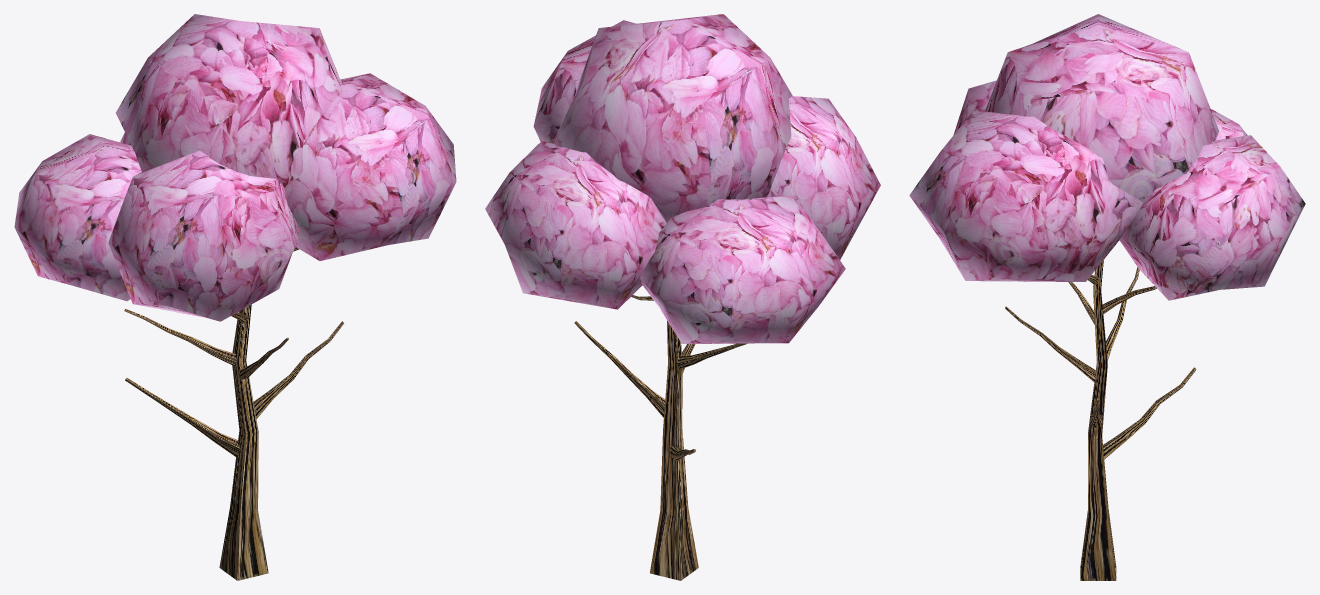
File: cherryblossomtree.fbx
3 views of the same model, side by side, from view 1: azimuth 30°, elevation 25°; view 2: azimuth 150°, elevation 25°; view 3: azimuth 270°, elevation 25° (orthographic).
Visible parts, largest first — view 1: pCube12, pCube15, pCube17, pCube16, pCube18; view 2: pCube12, pCube16, pCube14, pCube15, pCube18, pCube17; view 3: pCube17, pCube12, pCube14, pCube18, pCube15, pCube16.
Part boxes in pixels (<box>): pCube12: <box>115,14,341,187</box>; pCube15: <box>108,150,300,321</box>; pCube17: <box>284,73,456,260</box>; pCube16: <box>14,134,141,301</box>; pCube18: <box>124,247,343,580</box>; pCube12: <box>553,14,792,223</box>; pCube16: <box>640,195,845,343</box>; pCube14: <box>485,141,666,309</box>; pCube15: <box>767,96,880,259</box>; pCube18: <box>574,295,747,580</box>; pCube17: <box>533,20,636,143</box>; pCube17: <box>909,111,1142,281</box>; pCube12: <box>985,14,1218,204</box>; pCube14: <box>1119,135,1305,300</box>; pCube18: <box>1005,260,1196,580</box>; pCube15: <box>953,80,996,134</box>; pCube16: <box>1119,109,1247,240</box>.
Size of the model in its own units: 9.34 by 13.98 by 9.2.
2 materials, 2 textured.
